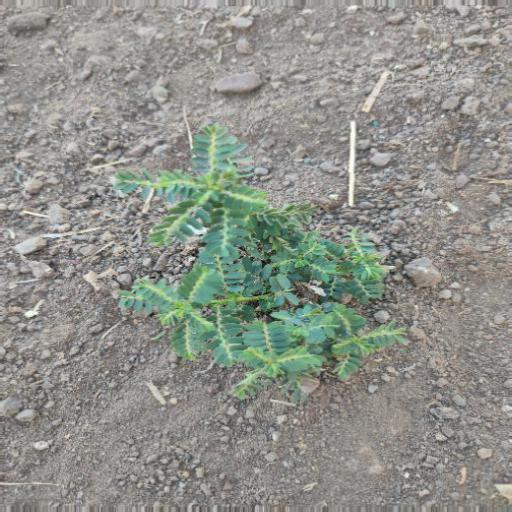weed: (108, 119, 409, 398)
